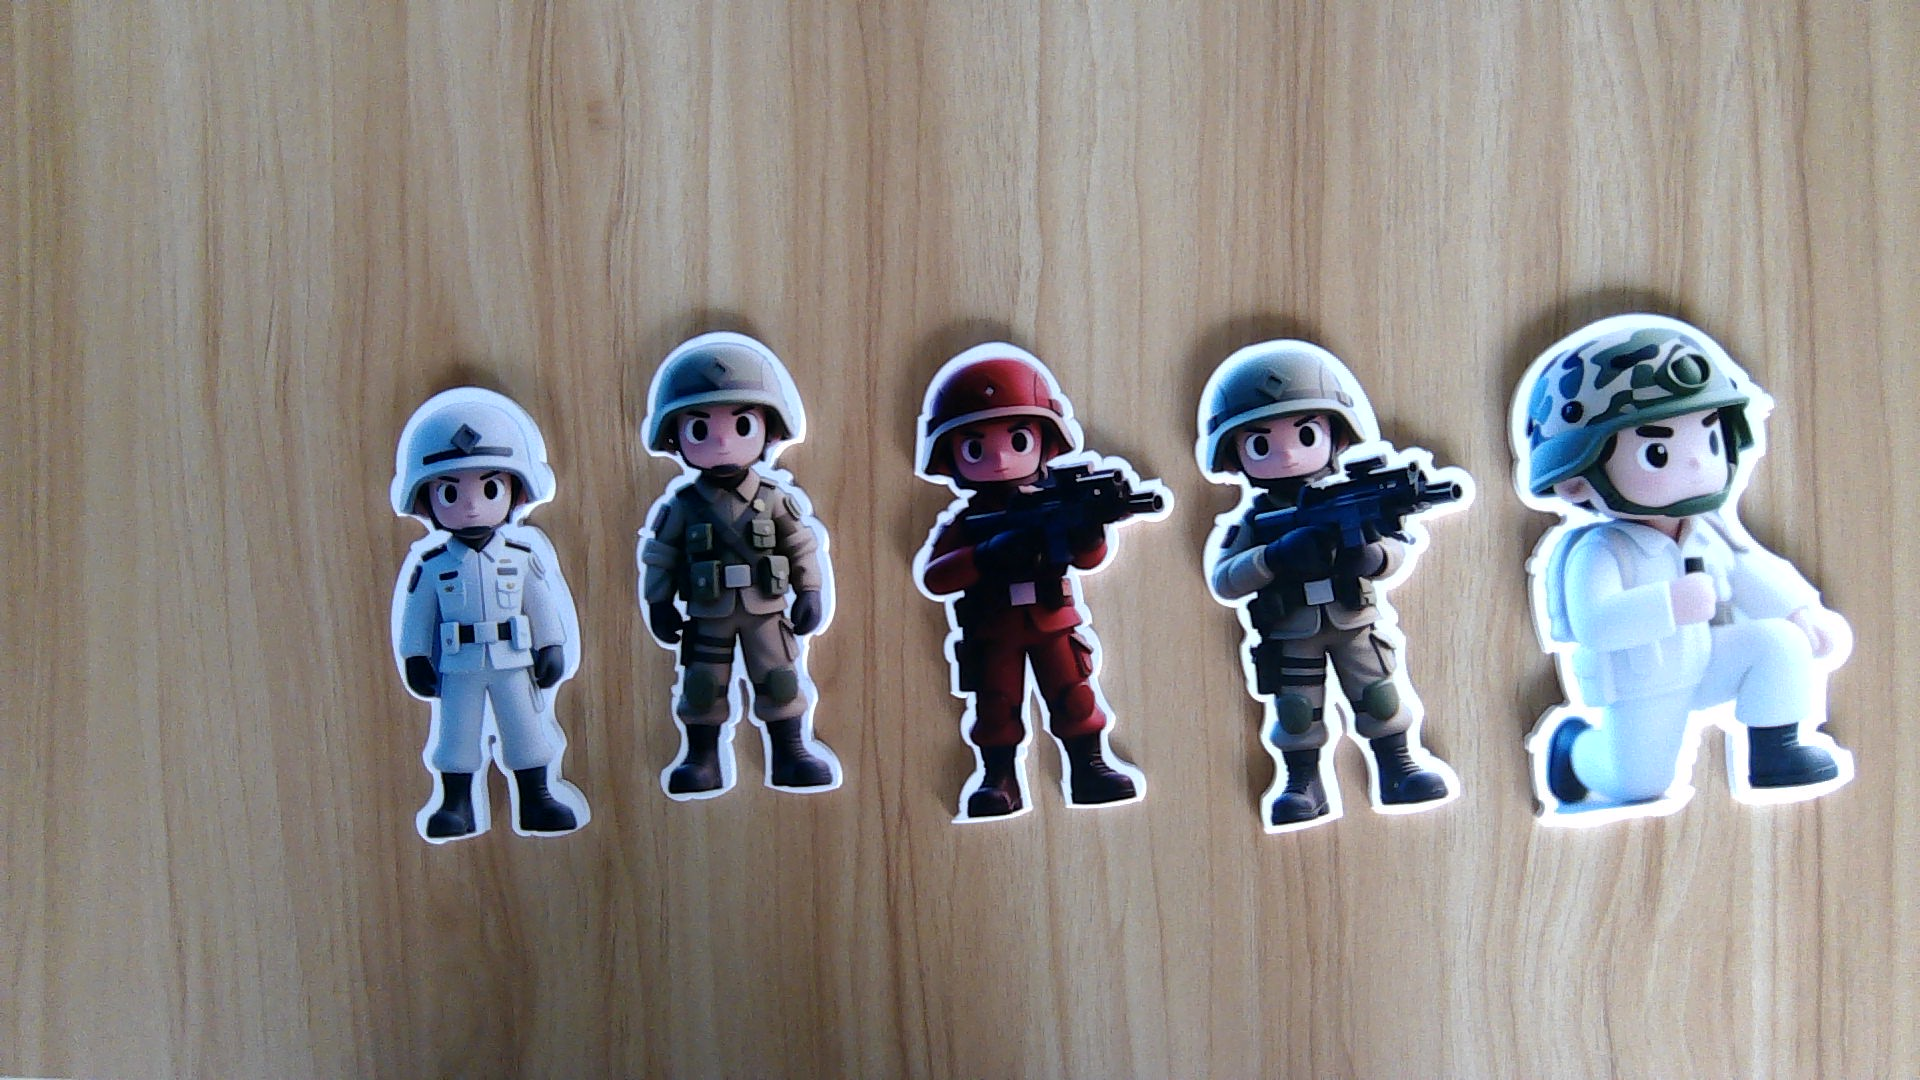人质: (1514, 525, 1871, 831), (386, 525, 599, 843)
友军: (1199, 492, 1472, 833), (636, 465, 845, 800)
敌人1: (902, 492, 1166, 825)
